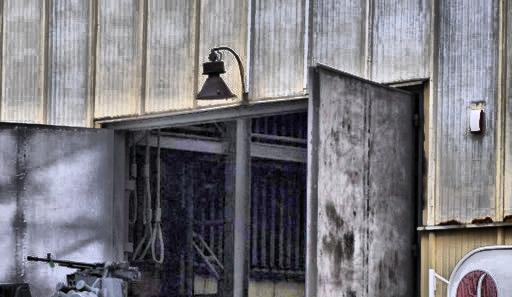tanks: (49, 259, 135, 297), (1, 283, 32, 297)
